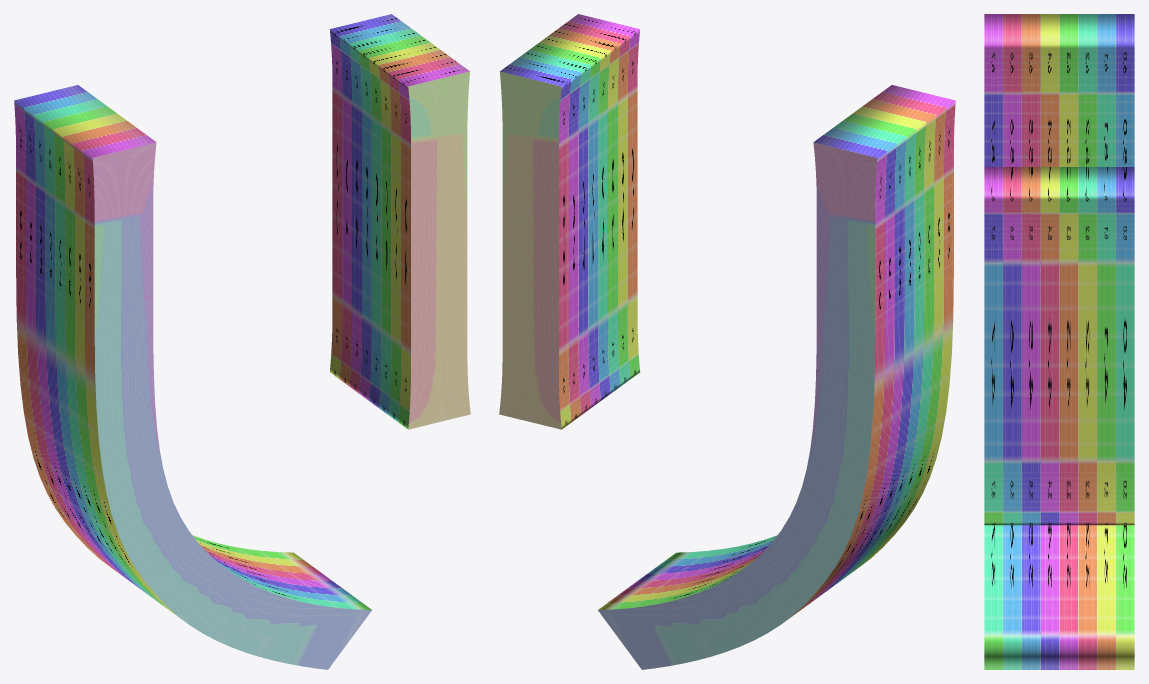
File: ClearText_02.obj
3 views of the same model, side by side, from view 1: azimuth 30°, elevation 25°; view 2: azimuth 150°, elevation 25°; view 3: azimuth 270°, elevation 25° (orthographic). The views are drawn at different scales.
Parts seen in each view (by area): view 1: テキスト.リ; view 2: テキスト.リ; view 3: テキスト.リ.
Part boxes in pixels (box(x1,y1,x2,y2)): テキスト.リ: box(14, 14, 470, 669); テキスト.リ: box(499, 14, 955, 669); テキスト.リ: box(984, 14, 1134, 669).
Size of the model in its own units: 0.556 by 0.8 by 0.2.
